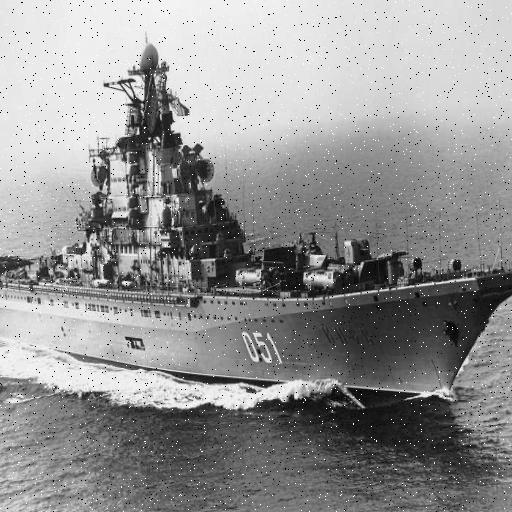Portanaves: (1, 21, 512, 422)
